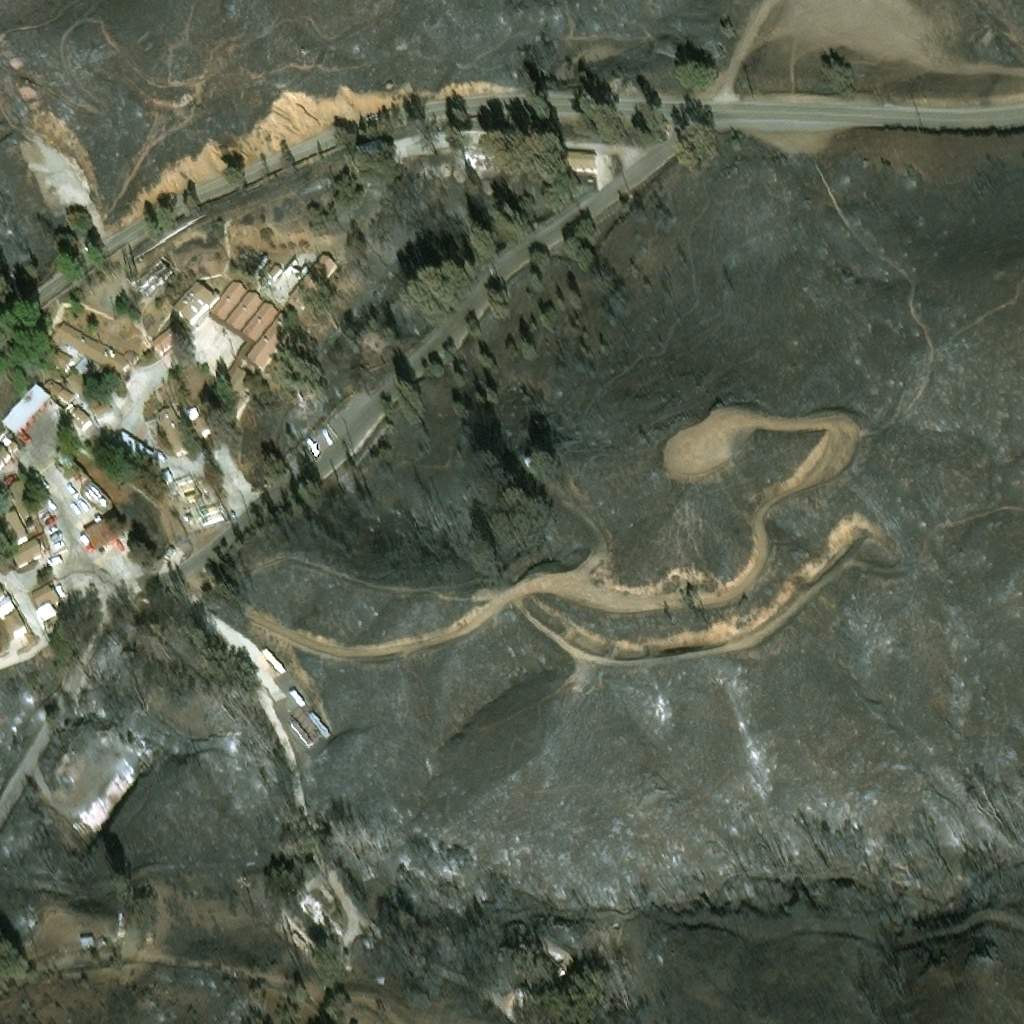0 no-damage: (50, 317, 136, 375), (245, 310, 296, 369), (1, 383, 52, 436), (287, 251, 338, 302), (171, 277, 215, 320), (153, 401, 190, 450), (224, 287, 264, 331), (85, 510, 128, 550), (240, 299, 279, 342), (208, 275, 246, 318), (27, 584, 63, 625), (111, 430, 153, 464), (1, 537, 42, 571), (567, 145, 608, 179), (150, 318, 187, 353), (356, 139, 388, 163)
3 destroyed: (291, 882, 340, 933), (229, 239, 271, 276), (133, 255, 173, 293), (505, 972, 539, 1002), (71, 919, 104, 933), (61, 796, 81, 815), (467, 152, 488, 163), (240, 869, 251, 880)
